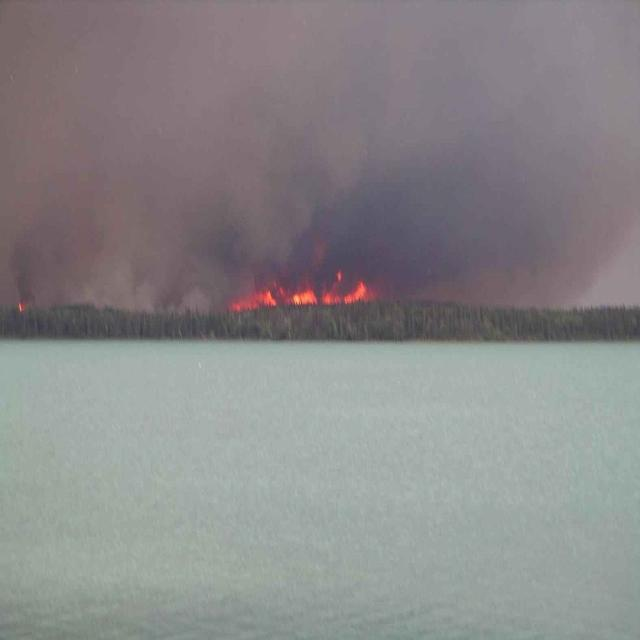Fire: (224, 253, 378, 331), (15, 292, 30, 317)
Smoke: (21, 42, 626, 329)
